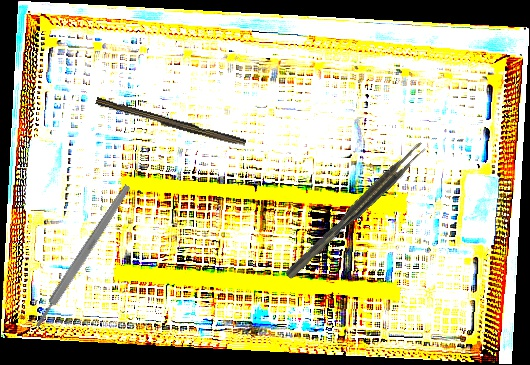Scalpel Handle: (32, 183, 133, 329), (94, 97, 247, 149)
Tissue Forceps: (280, 140, 430, 280)
